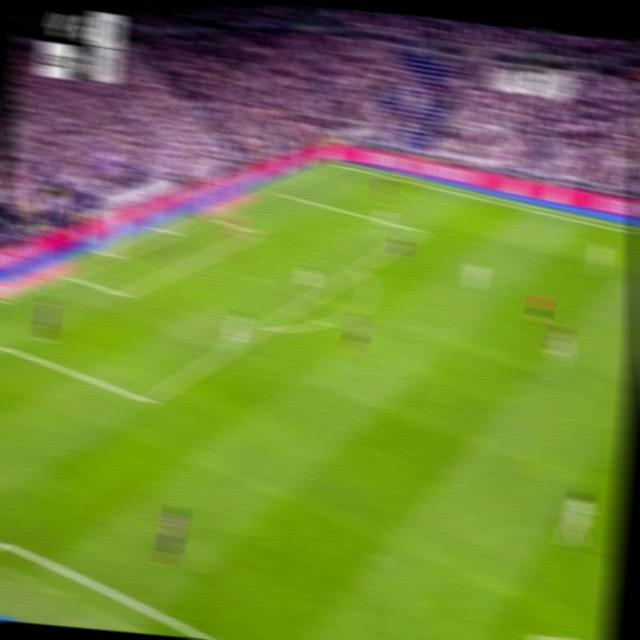bigarea_bottom_inner: (137, 387, 157, 414)
bigarea_top_inner: (411, 222, 425, 238)
bigarea_top_outter: (267, 184, 282, 197)
bottom_arc_area_intersection: (256, 315, 274, 338)
corner: (330, 156, 346, 170)
smallarea_bottom_inner: (115, 283, 131, 304)
smallarea_top_inner: (249, 226, 264, 237)
top_arc_area_intersection: (350, 259, 366, 278)
